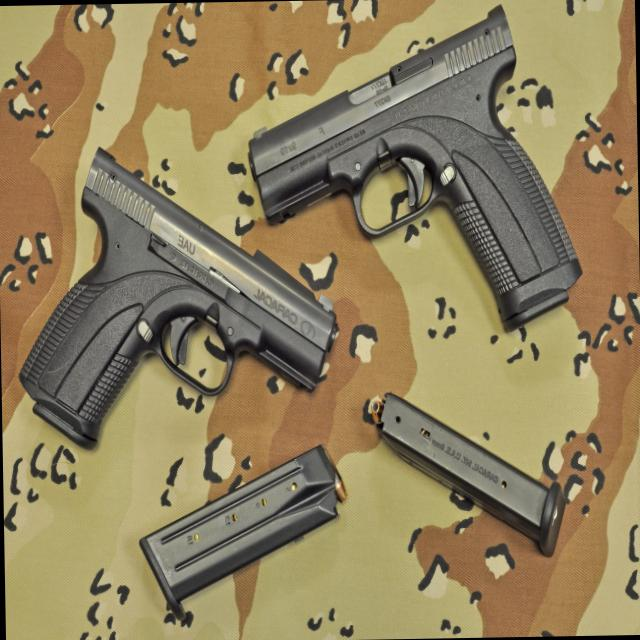Gun: (0, 140, 334, 453), (260, 20, 560, 332)
